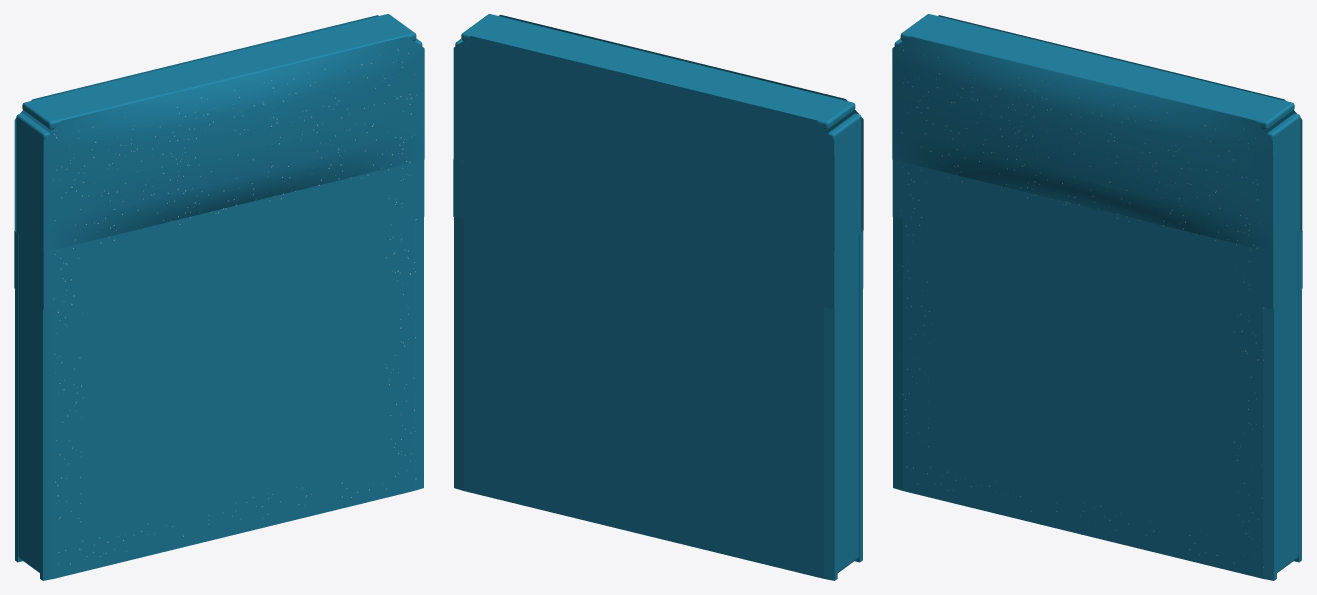
The model's file is crystal.obj.
3 views of the same model, side by side, from view 1: azimuth 30°, elevation 25°; view 2: azimuth 150°, elevation 25°; view 3: azimuth 330°, elevation 25° (orthographic).
Parts seen in each view (by area): view 1: clear_shell_crystal_front_from_game_boy, clear_shell_convex_header, clear_shell_case_side, clear_shell_case_top, crystal_rear_from_game_boy, rounded_rear_header, fleck_plastic_flecks; view 2: crystal_rear_from_game_boy, rounded_rear_header, clear_shell_case_side, clear_shell_case_top, clear_shell_crystal_front_from_game_boy, clear_shell_convex_header; view 3: clear_shell_crystal_front_from_game_boy, clear_shell_convex_header, clear_shell_case_side.001, clear_shell_case_top, crystal_rear_from_game_boy, rounded_rear_header, fleck_plastic_flecks.
Part boxes in pixels (x1,y1,x2,y2): clear_shell_crystal_front_from_game_boy: [40, 160, 424, 580]; clear_shell_convex_header: [43, 36, 424, 252]; clear_shell_case_side: [16, 113, 49, 572]; clear_shell_case_top: [22, 14, 416, 129]; crystal_rear_from_game_boy: [14, 231, 22, 562]; rounded_rear_header: [14, 15, 378, 230]; fleck_plastic_flecks: [53, 49, 416, 564]; crystal_rear_from_game_boy: [453, 159, 837, 580]; rounded_rear_header: [453, 36, 834, 251]; clear_shell_case_side: [827, 113, 861, 572]; clear_shell_case_top: [461, 14, 855, 129]; clear_shell_crystal_front_from_game_boy: [854, 230, 863, 562]; clear_shell_convex_header: [499, 14, 863, 230]; clear_shell_crystal_front_from_game_boy: [892, 160, 1276, 580]; clear_shell_convex_header: [892, 36, 1273, 252]; clear_shell_case_side.001: [1267, 113, 1300, 572]; clear_shell_case_top: [900, 14, 1294, 129]; crystal_rear_from_game_boy: [1294, 231, 1302, 562]; rounded_rear_header: [938, 15, 1302, 230]; fleck_plastic_flecks: [900, 45, 1264, 567].
Size of the model in its own units: 1.72 by 1.97 by 0.2789.
